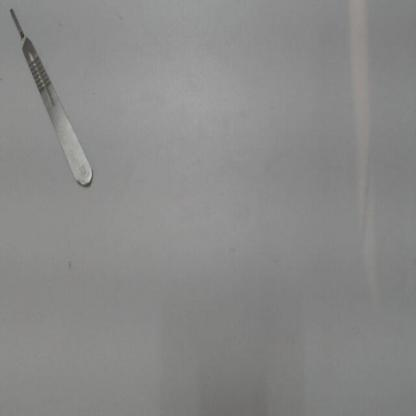No.3 BP Handle: (1, 5, 100, 200)
